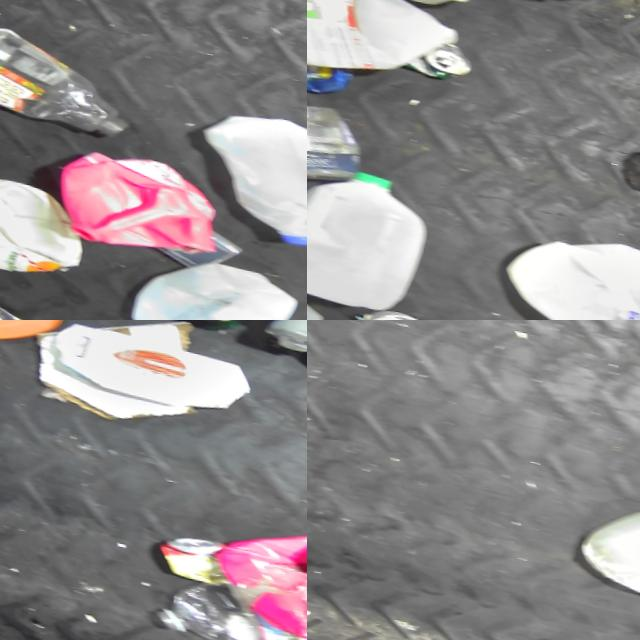can: (307, 85, 375, 192), (150, 520, 251, 587), (398, 20, 477, 85), (0, 285, 70, 320)
milk_jug: (307, 143, 443, 313), (190, 90, 307, 239), (493, 206, 640, 320), (307, 0, 463, 90), (142, 239, 307, 320), (588, 463, 640, 617)
non_white_jug: (65, 140, 228, 257)
plastic_bottle: (0, 21, 140, 138), (150, 569, 307, 640)
